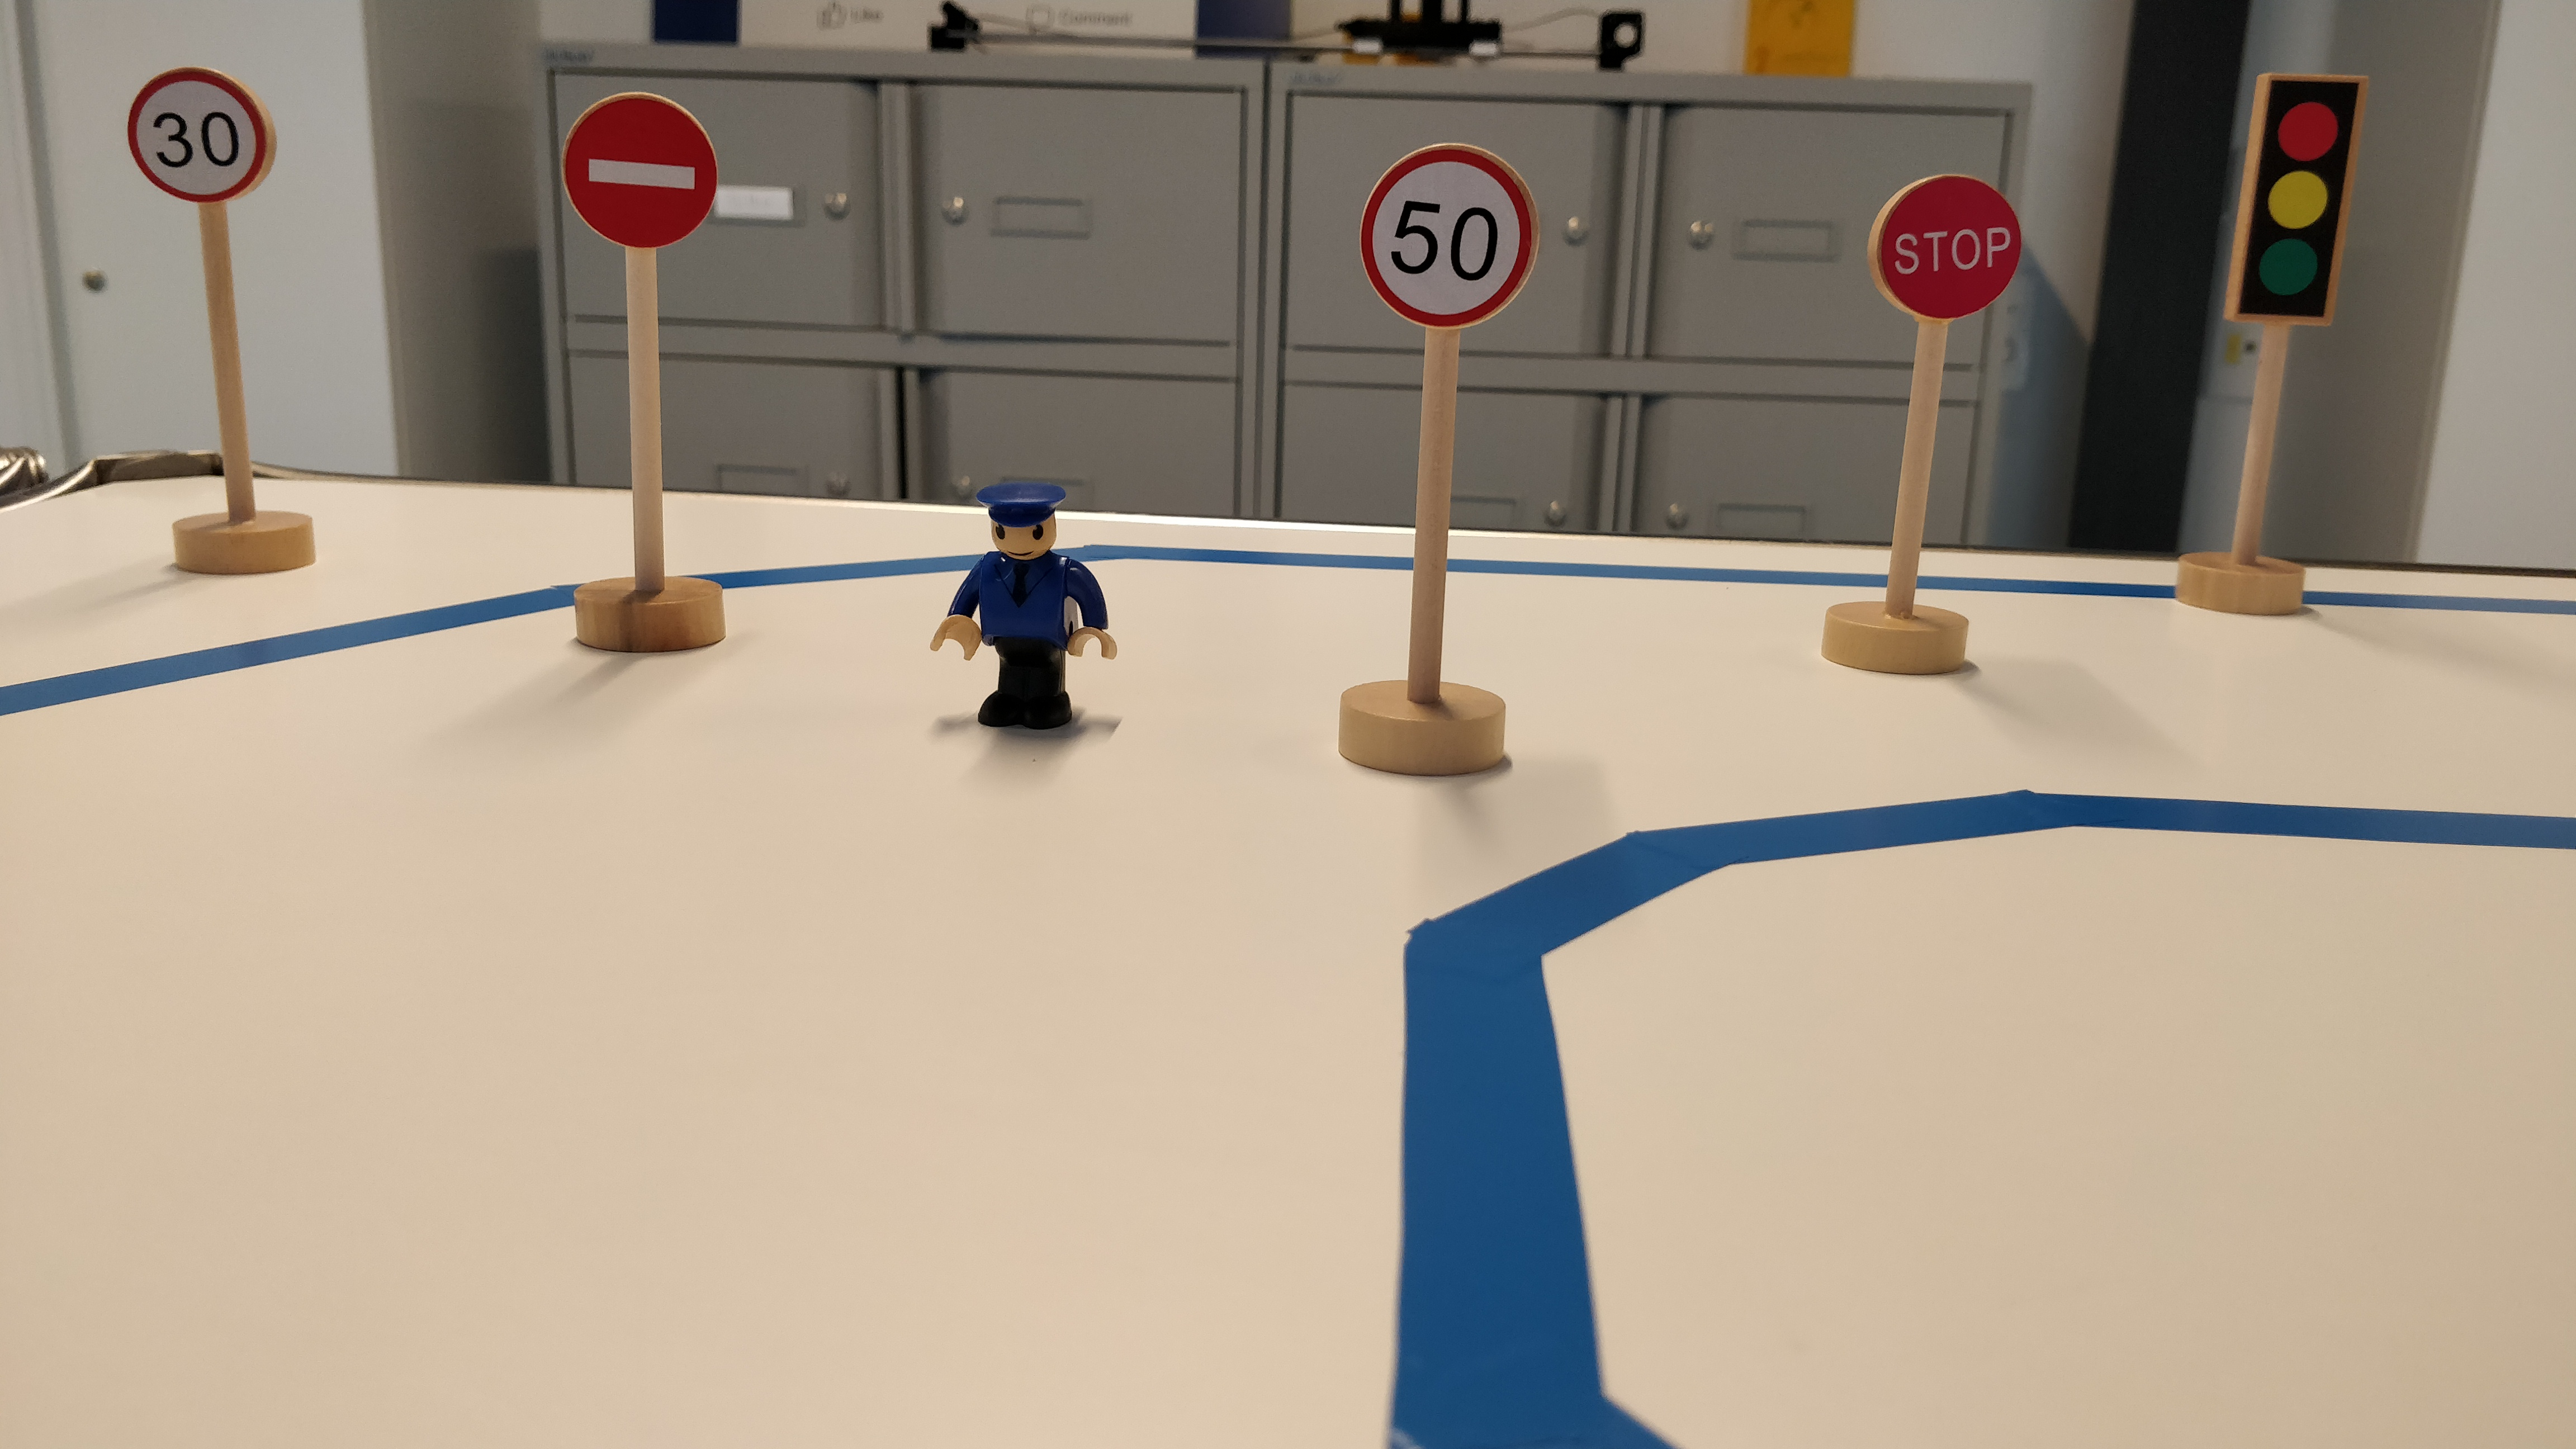Person: (929, 477, 1120, 740)
Prohibition Sign: (558, 90, 722, 250)
Speed Limit 30: (120, 63, 284, 209)
Speed Limit 50: (1353, 139, 1541, 335)
Stop Sign: (1860, 172, 2026, 327)
Traffic Light: (2222, 67, 2370, 332)
